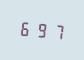nine: (34, 19, 48, 40)
seven: (49, 20, 63, 41)
six: (18, 18, 32, 39)
